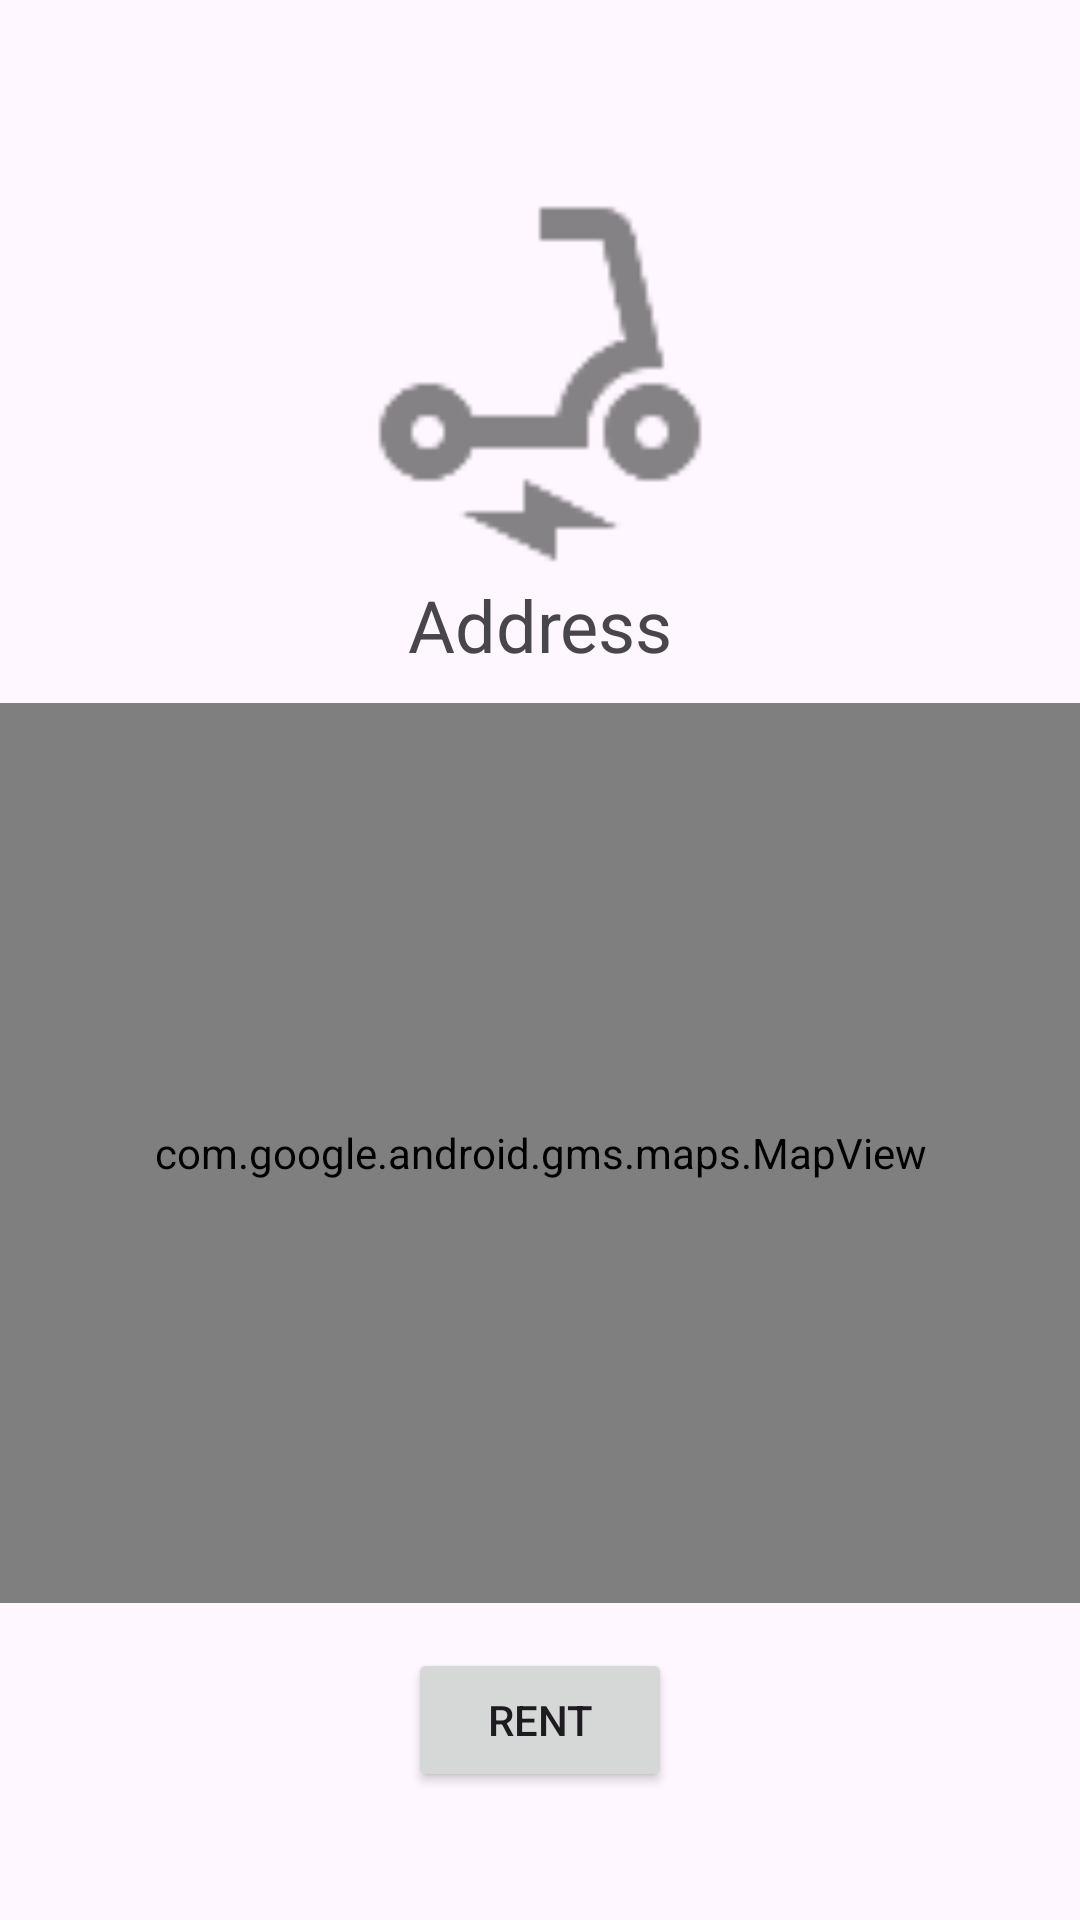

Icons on this 1080 x 1920 Android screen, each with its box as [x1=x1, y1=y1, x2=x2, y2=y2]:
scooter: [x1=378, y1=206, x2=702, y2=561]
